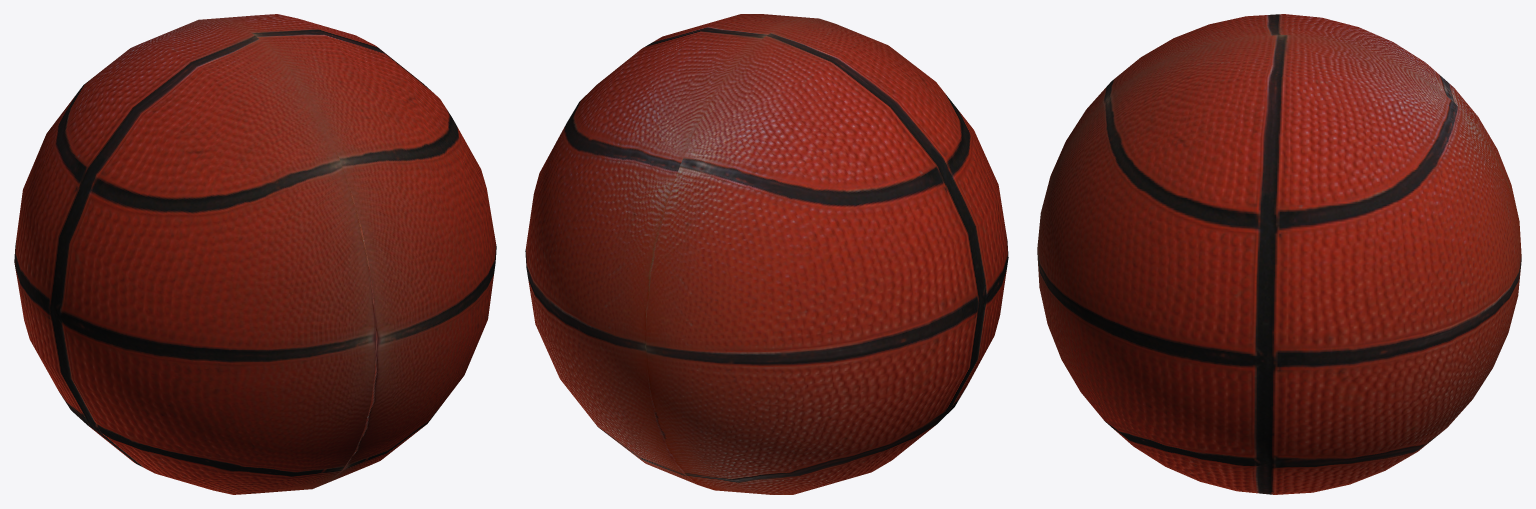
The model's file is Ball.fbx.
3 views of the same model, side by side, from view 1: azimuth 30°, elevation 25°; view 2: azimuth 150°, elevation 25°; view 3: azimuth 270°, elevation 25° (orthographic).
Parts seen in each view (by area): view 1: pSphere9; view 2: pSphere9; view 3: pSphere9.
Part boxes in pixels (bbox=[...]): pSphere9: bbox=[14, 14, 496, 494]; pSphere9: bbox=[525, 14, 1008, 494]; pSphere9: bbox=[1037, 14, 1521, 494].
Size of the model in its own units: 3.26 by 3.25 by 3.25.
Materials: 1 (1 with a texture image).
